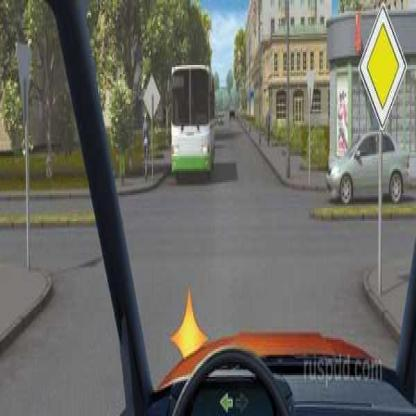road_sign: (359, 6, 407, 130)
